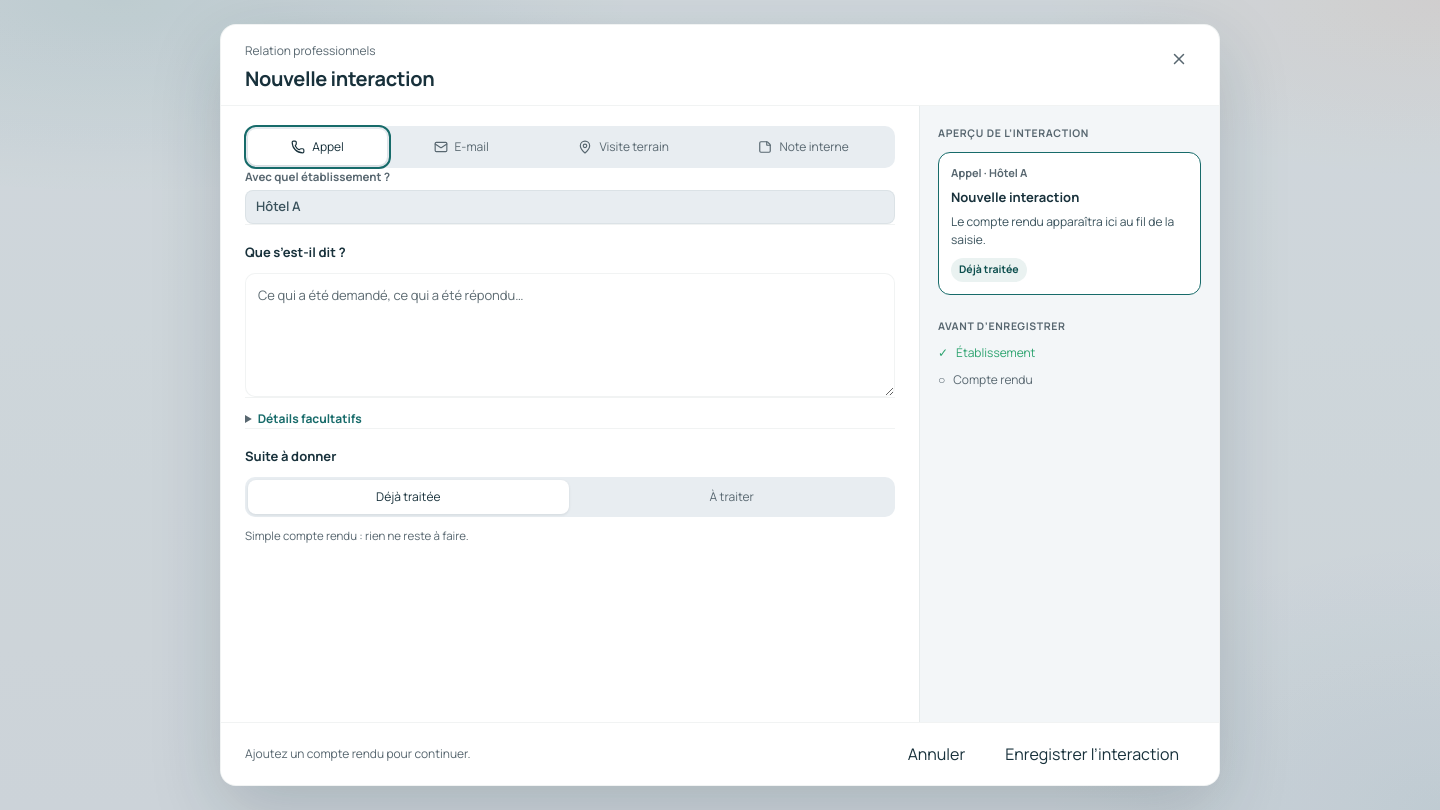
CrmInteractionModal — relance en 2 temps (Phase 5.2, dé-modalisation) › après consignation : confirmation + « Ajouter une relance » révèle titre / échéance / Attribuer à
This screenshot has width=1440, height=810.
Type "Appel" into the text box named "Compte rendu" at x=570, y=335, box [245,272,895,397]
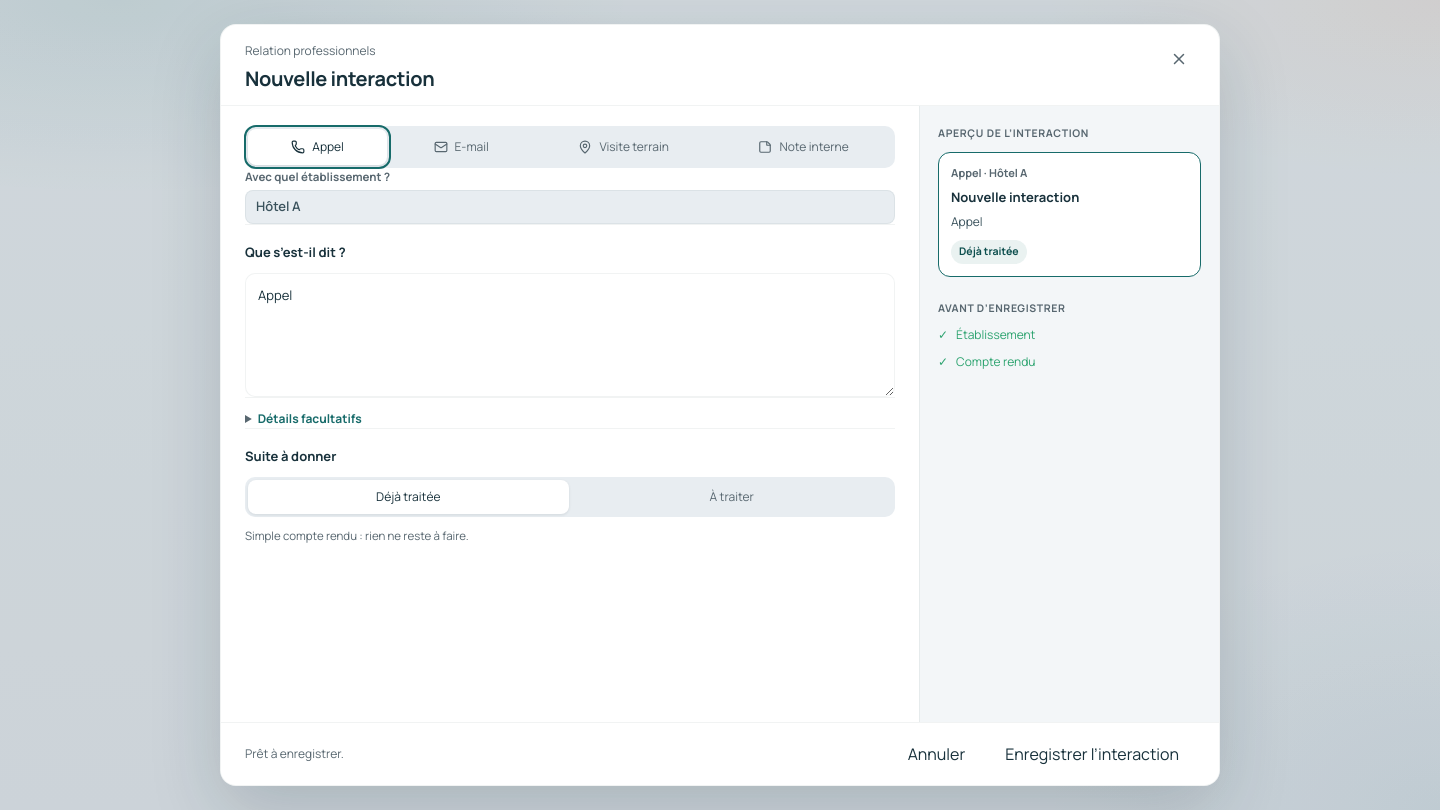
Click the button "Enregistrer l’interaction" at x=1092, y=754, box [989,735,1195,773]
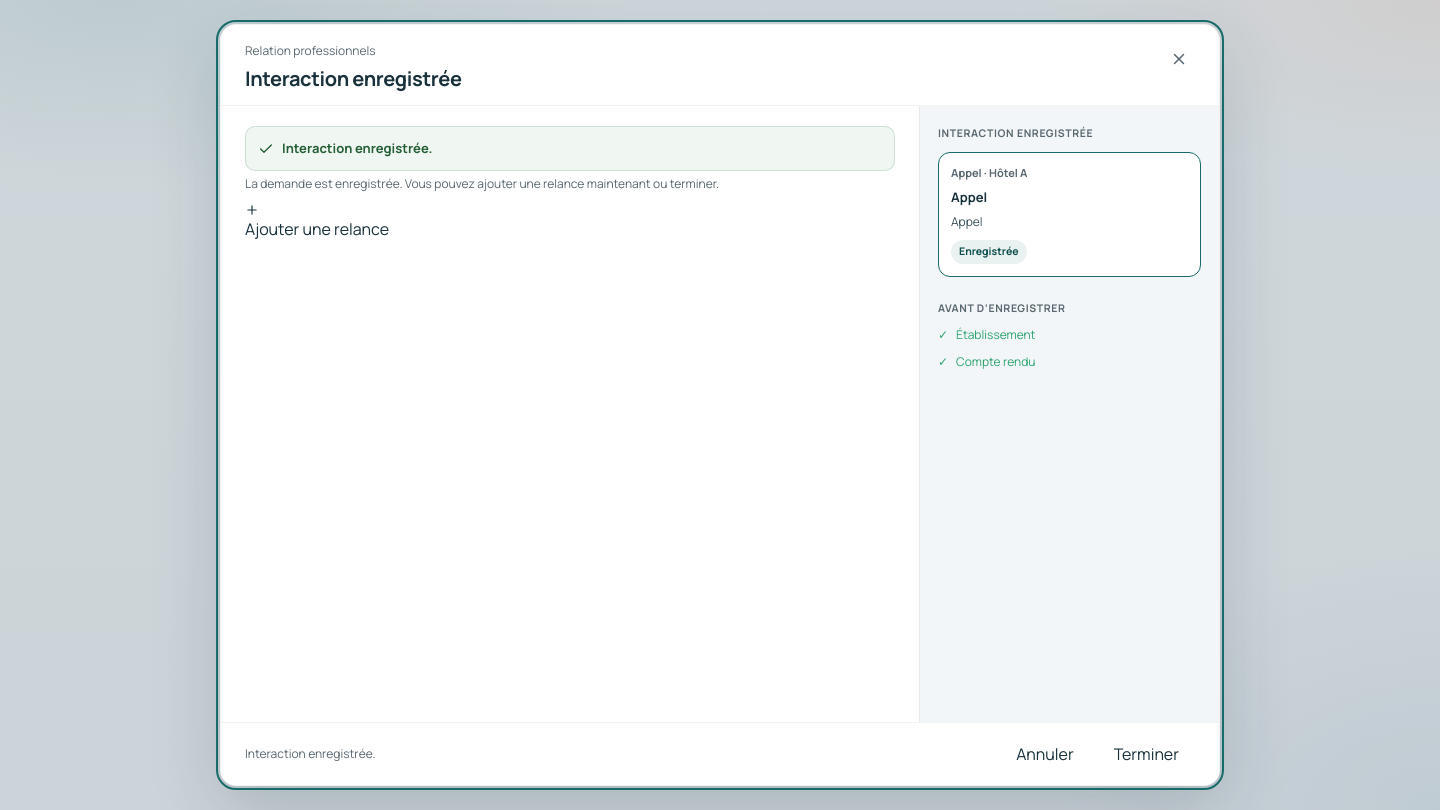
Expected: the message shows "Interaction enregistrée", [282,139,432,157]
Click the button "Ajouter une relance" at x=317, y=222, box [245,203,389,241]
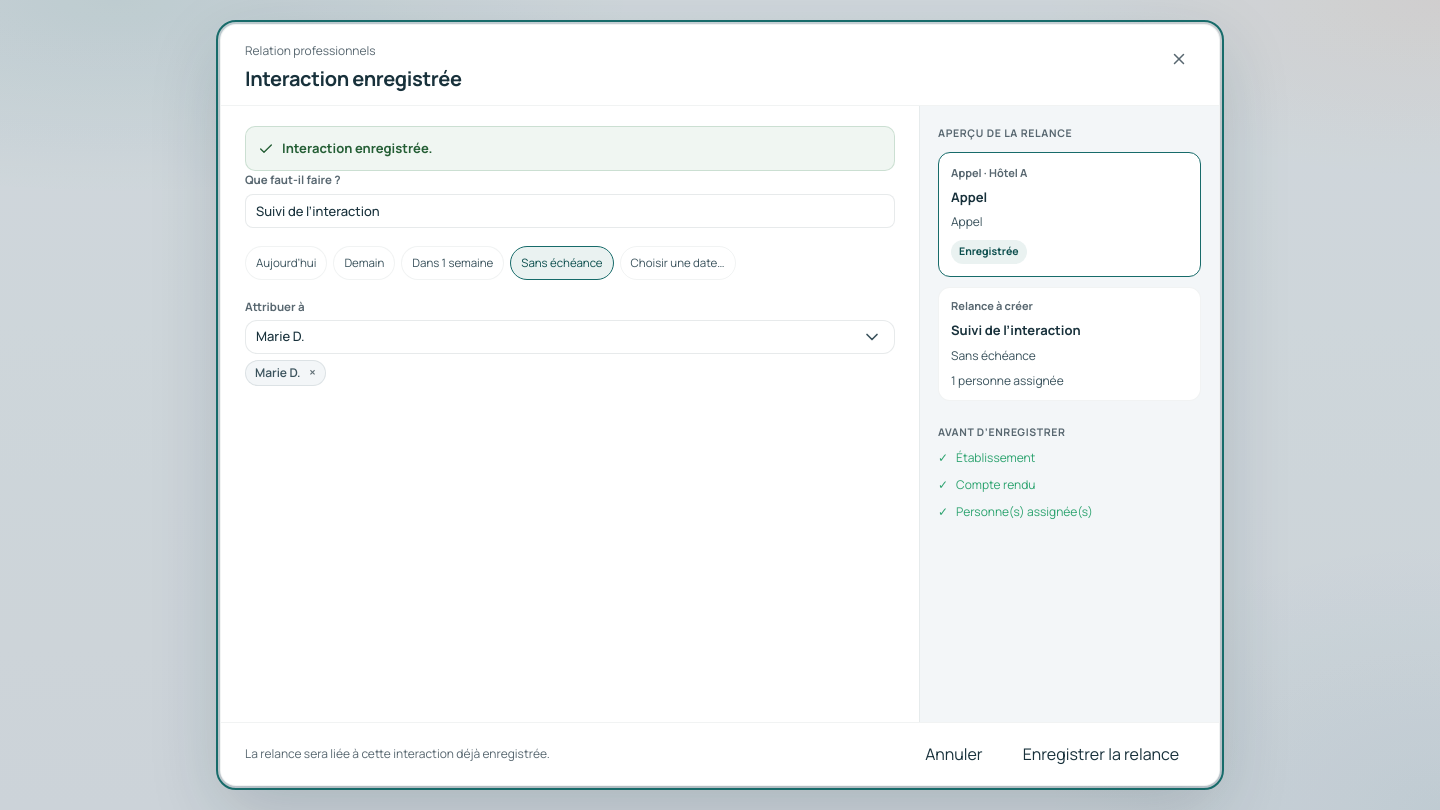
Expected: the field named "Titre de la tâche" is shown, [245,194,895,228]
Expected: the date field named "Échéance" is shown, [620,246,736,280]
Expected: the dropdown named "Attribuer à" is shown, [245,320,895,354]
